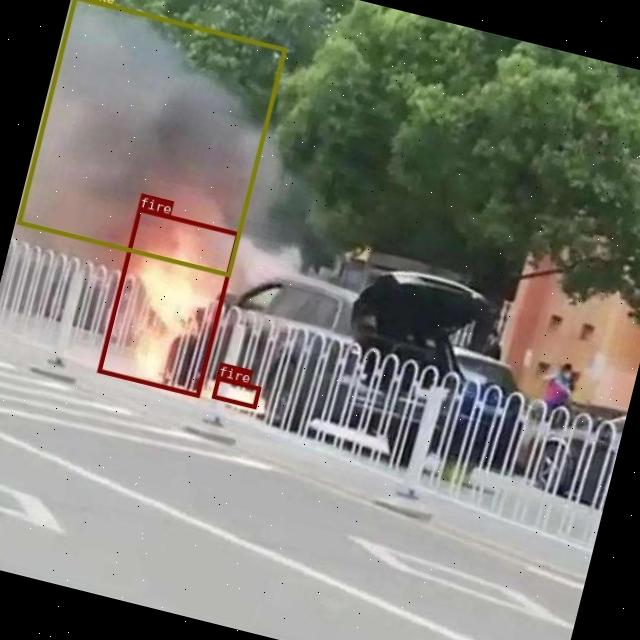fire: (97, 207, 240, 397), (210, 374, 260, 408)
smoke: (16, 0, 286, 275)
